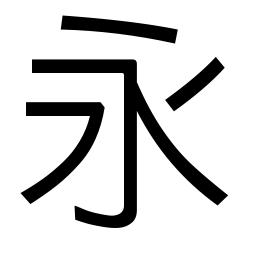D: (59, 13, 179, 45)
HSZ: (106, 56, 142, 83)
Hs: (29, 55, 72, 76)
Ne: (196, 179, 231, 208)
PNc: (140, 92, 181, 129)
PZe: (19, 180, 50, 206)
Ps: (202, 55, 227, 79)
SG: (71, 199, 139, 229)
Sm: (121, 137, 140, 172)
TPZ: (78, 100, 106, 136)
Ts: (23, 98, 57, 120)
